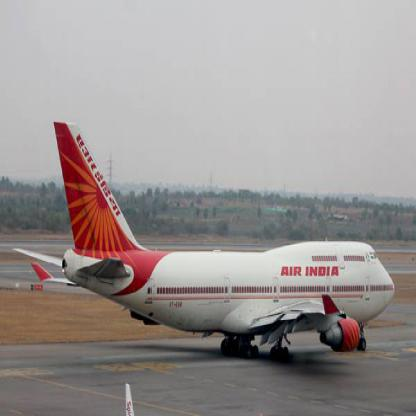CIV_Plane: (16, 118, 396, 362)
